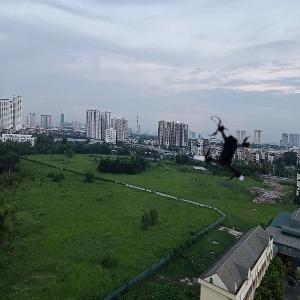drone: (186, 115, 259, 188)
